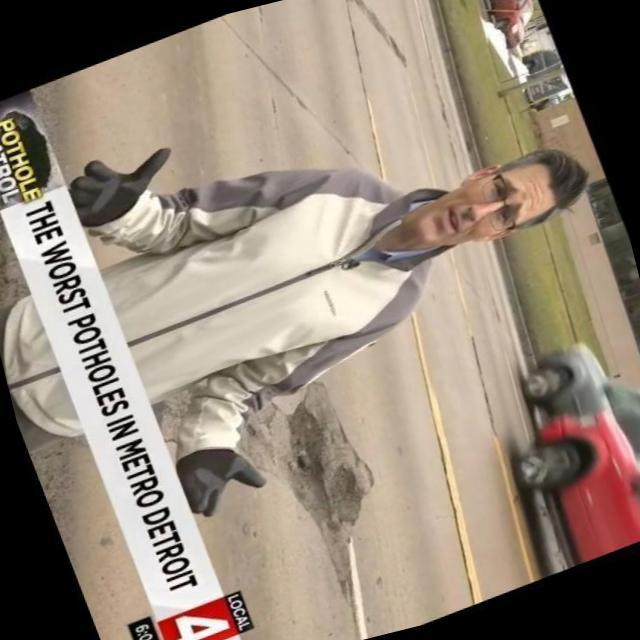pothole: (258, 360, 400, 608)
